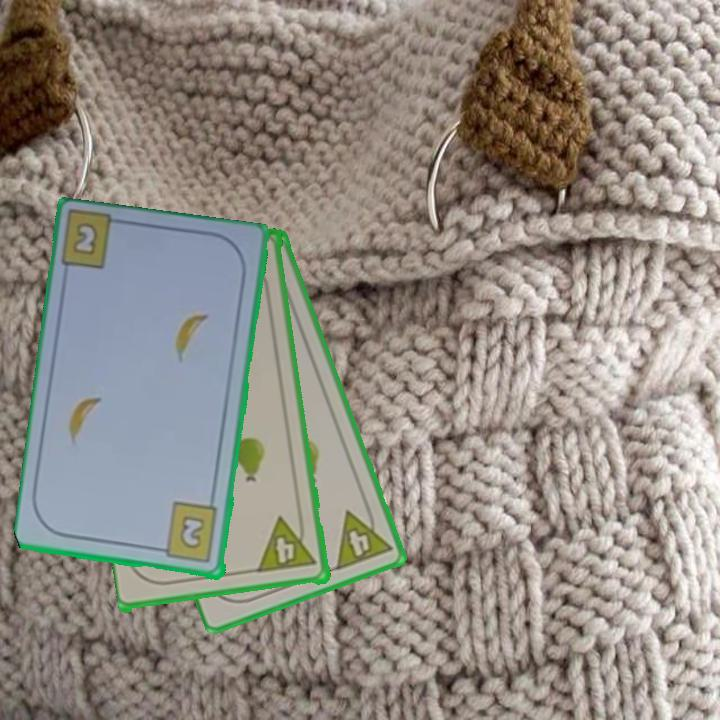2b: (153, 500, 221, 566), (73, 222, 99, 256)
4p: (332, 500, 395, 573), (255, 512, 320, 576)
